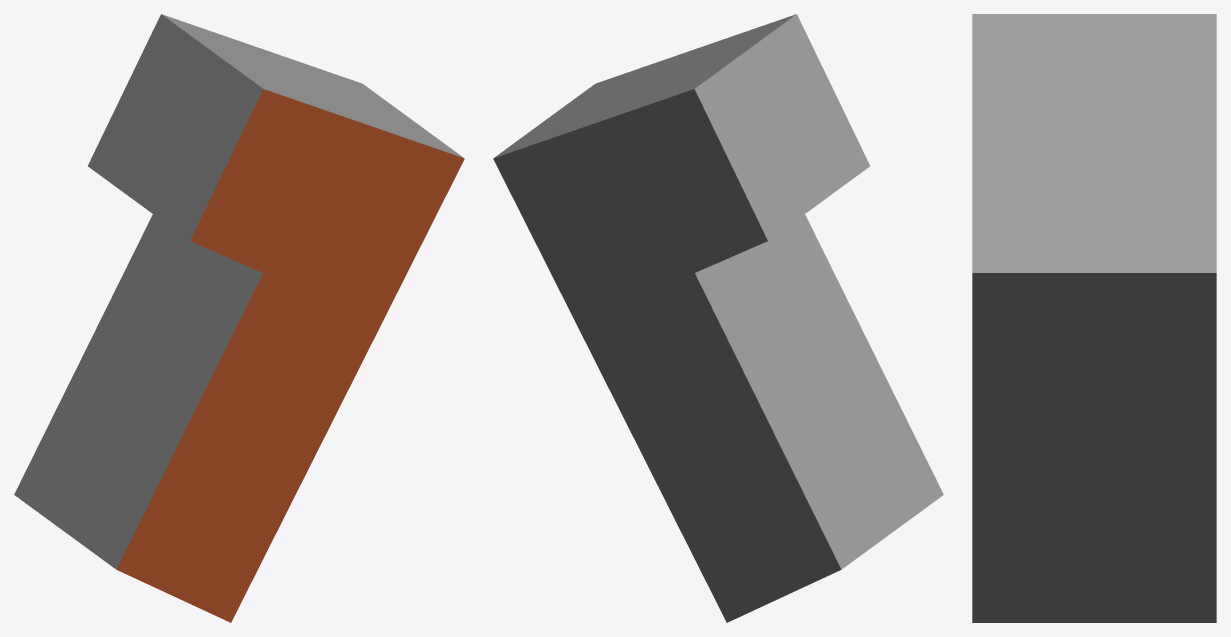
The model's file is construction_1622_assumed_A_Casa_h6m.obj.
3 views of the same model, side by side, from view 1: azimuth 30°, elevation 25°; view 2: azimuth 150°, elevation 25°; view 3: azimuth 270°, elevation 25° (orthographic). The views are drawn at different scales.
Parts seen in each view (by area): view 1: construction_1622_assumed_A_Casa; view 2: construction_1622_assumed_A_Casa; view 3: construction_1622_assumed_A_Casa.
Boxes of the visible parts, <box> form: construction_1622_assumed_A_Casa: <box>14,14,464,622</box>; construction_1622_assumed_A_Casa: <box>493,14,943,622</box>; construction_1622_assumed_A_Casa: <box>972,14,1216,622</box>.
Bounding box in the file's own units: 11.79 × 17.01 × 6.
